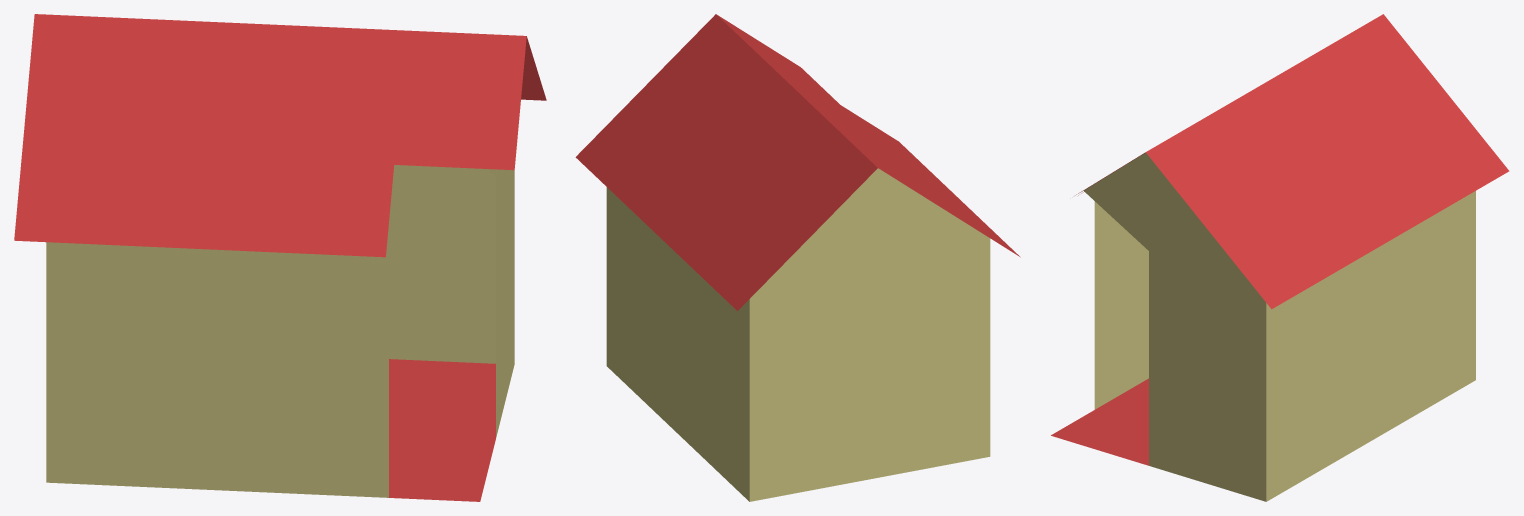
The picture shows the model from 3 angles, left to right: view 1: azimuth 30°, elevation 25°; view 2: azimuth 150°, elevation 25°; view 3: azimuth 270°, elevation 25°; orthographic projection. The views are drawn at different scales.
Bounding box in the file's own units: 16.04 × 14.37 × 11.23.
